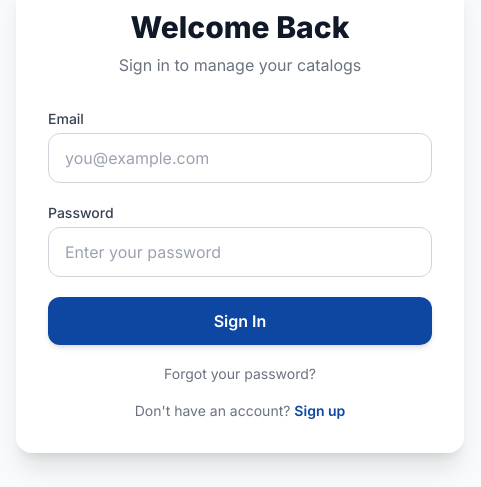
Test case: Login › disables submit button while loading
Type "test@example.com" into the field labelled "Email".
click(240, 158); type("test@example.com")  # box [48,133,432,183]
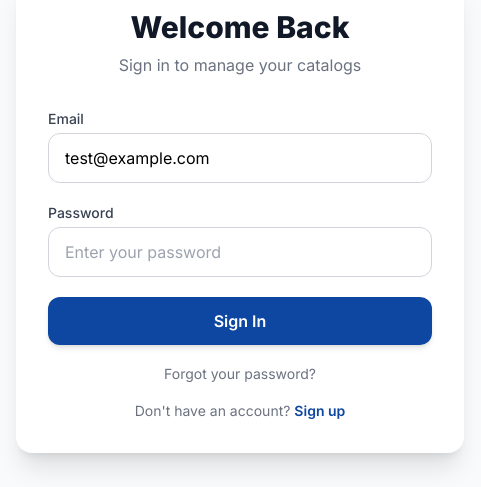
Type "pass" into the password field labelled "Password".
click(240, 252); type("pass")  # box [48,227,432,277]
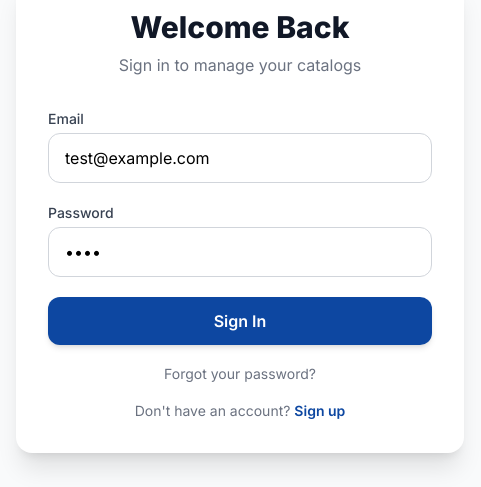
Click the button "Sign In".
click(240, 321)  # box [48,297,432,345]
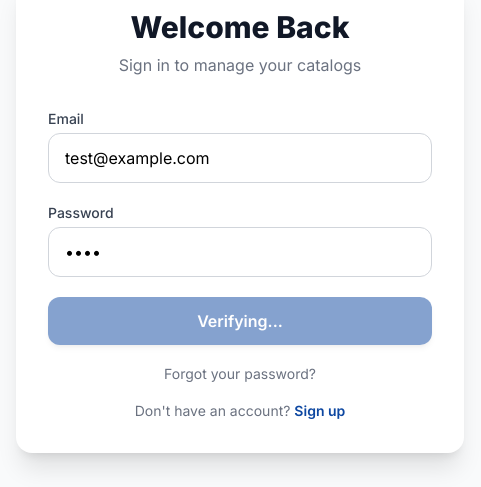
Expected: the button "Verifying..." is disabled, [48,297,432,345]
